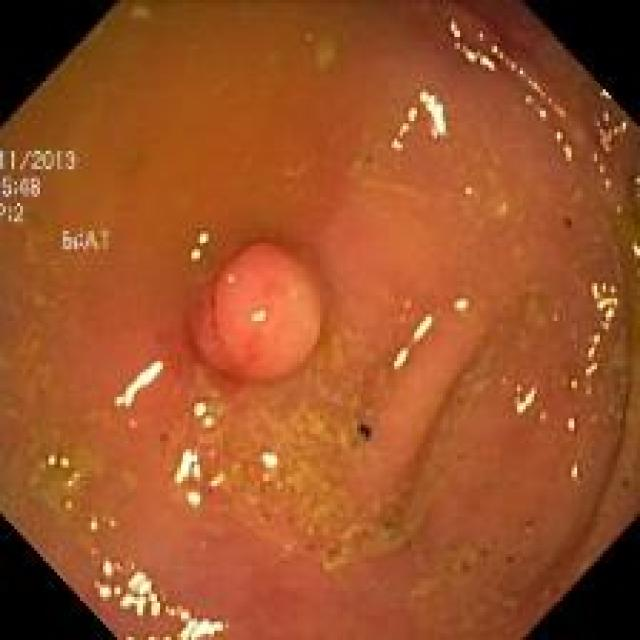Polyps: (194, 242, 322, 384)
